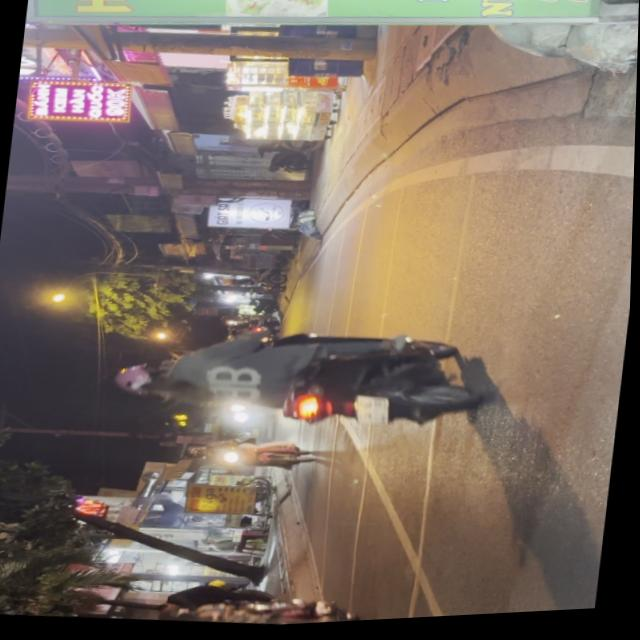helmet: (114, 361, 175, 402)
licenseplate: (104, 306, 503, 458), (124, 576, 387, 634)
nohelmet: (354, 398, 391, 432)
